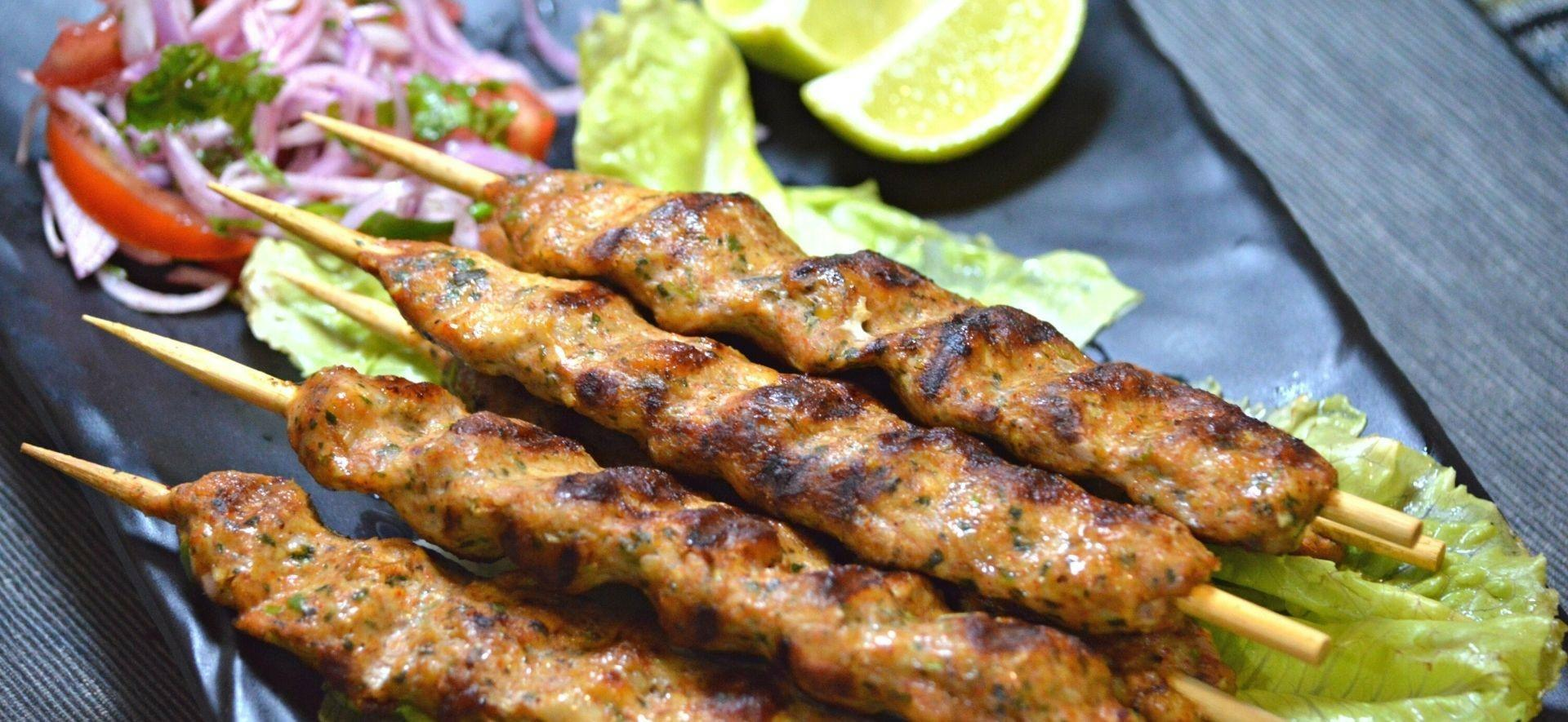Kebab: (374, 239, 1219, 632), (487, 165, 1335, 553), (285, 366, 1199, 722), (172, 473, 857, 722)
